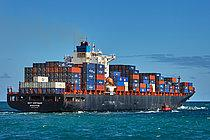Ship: (6, 35, 200, 116)
